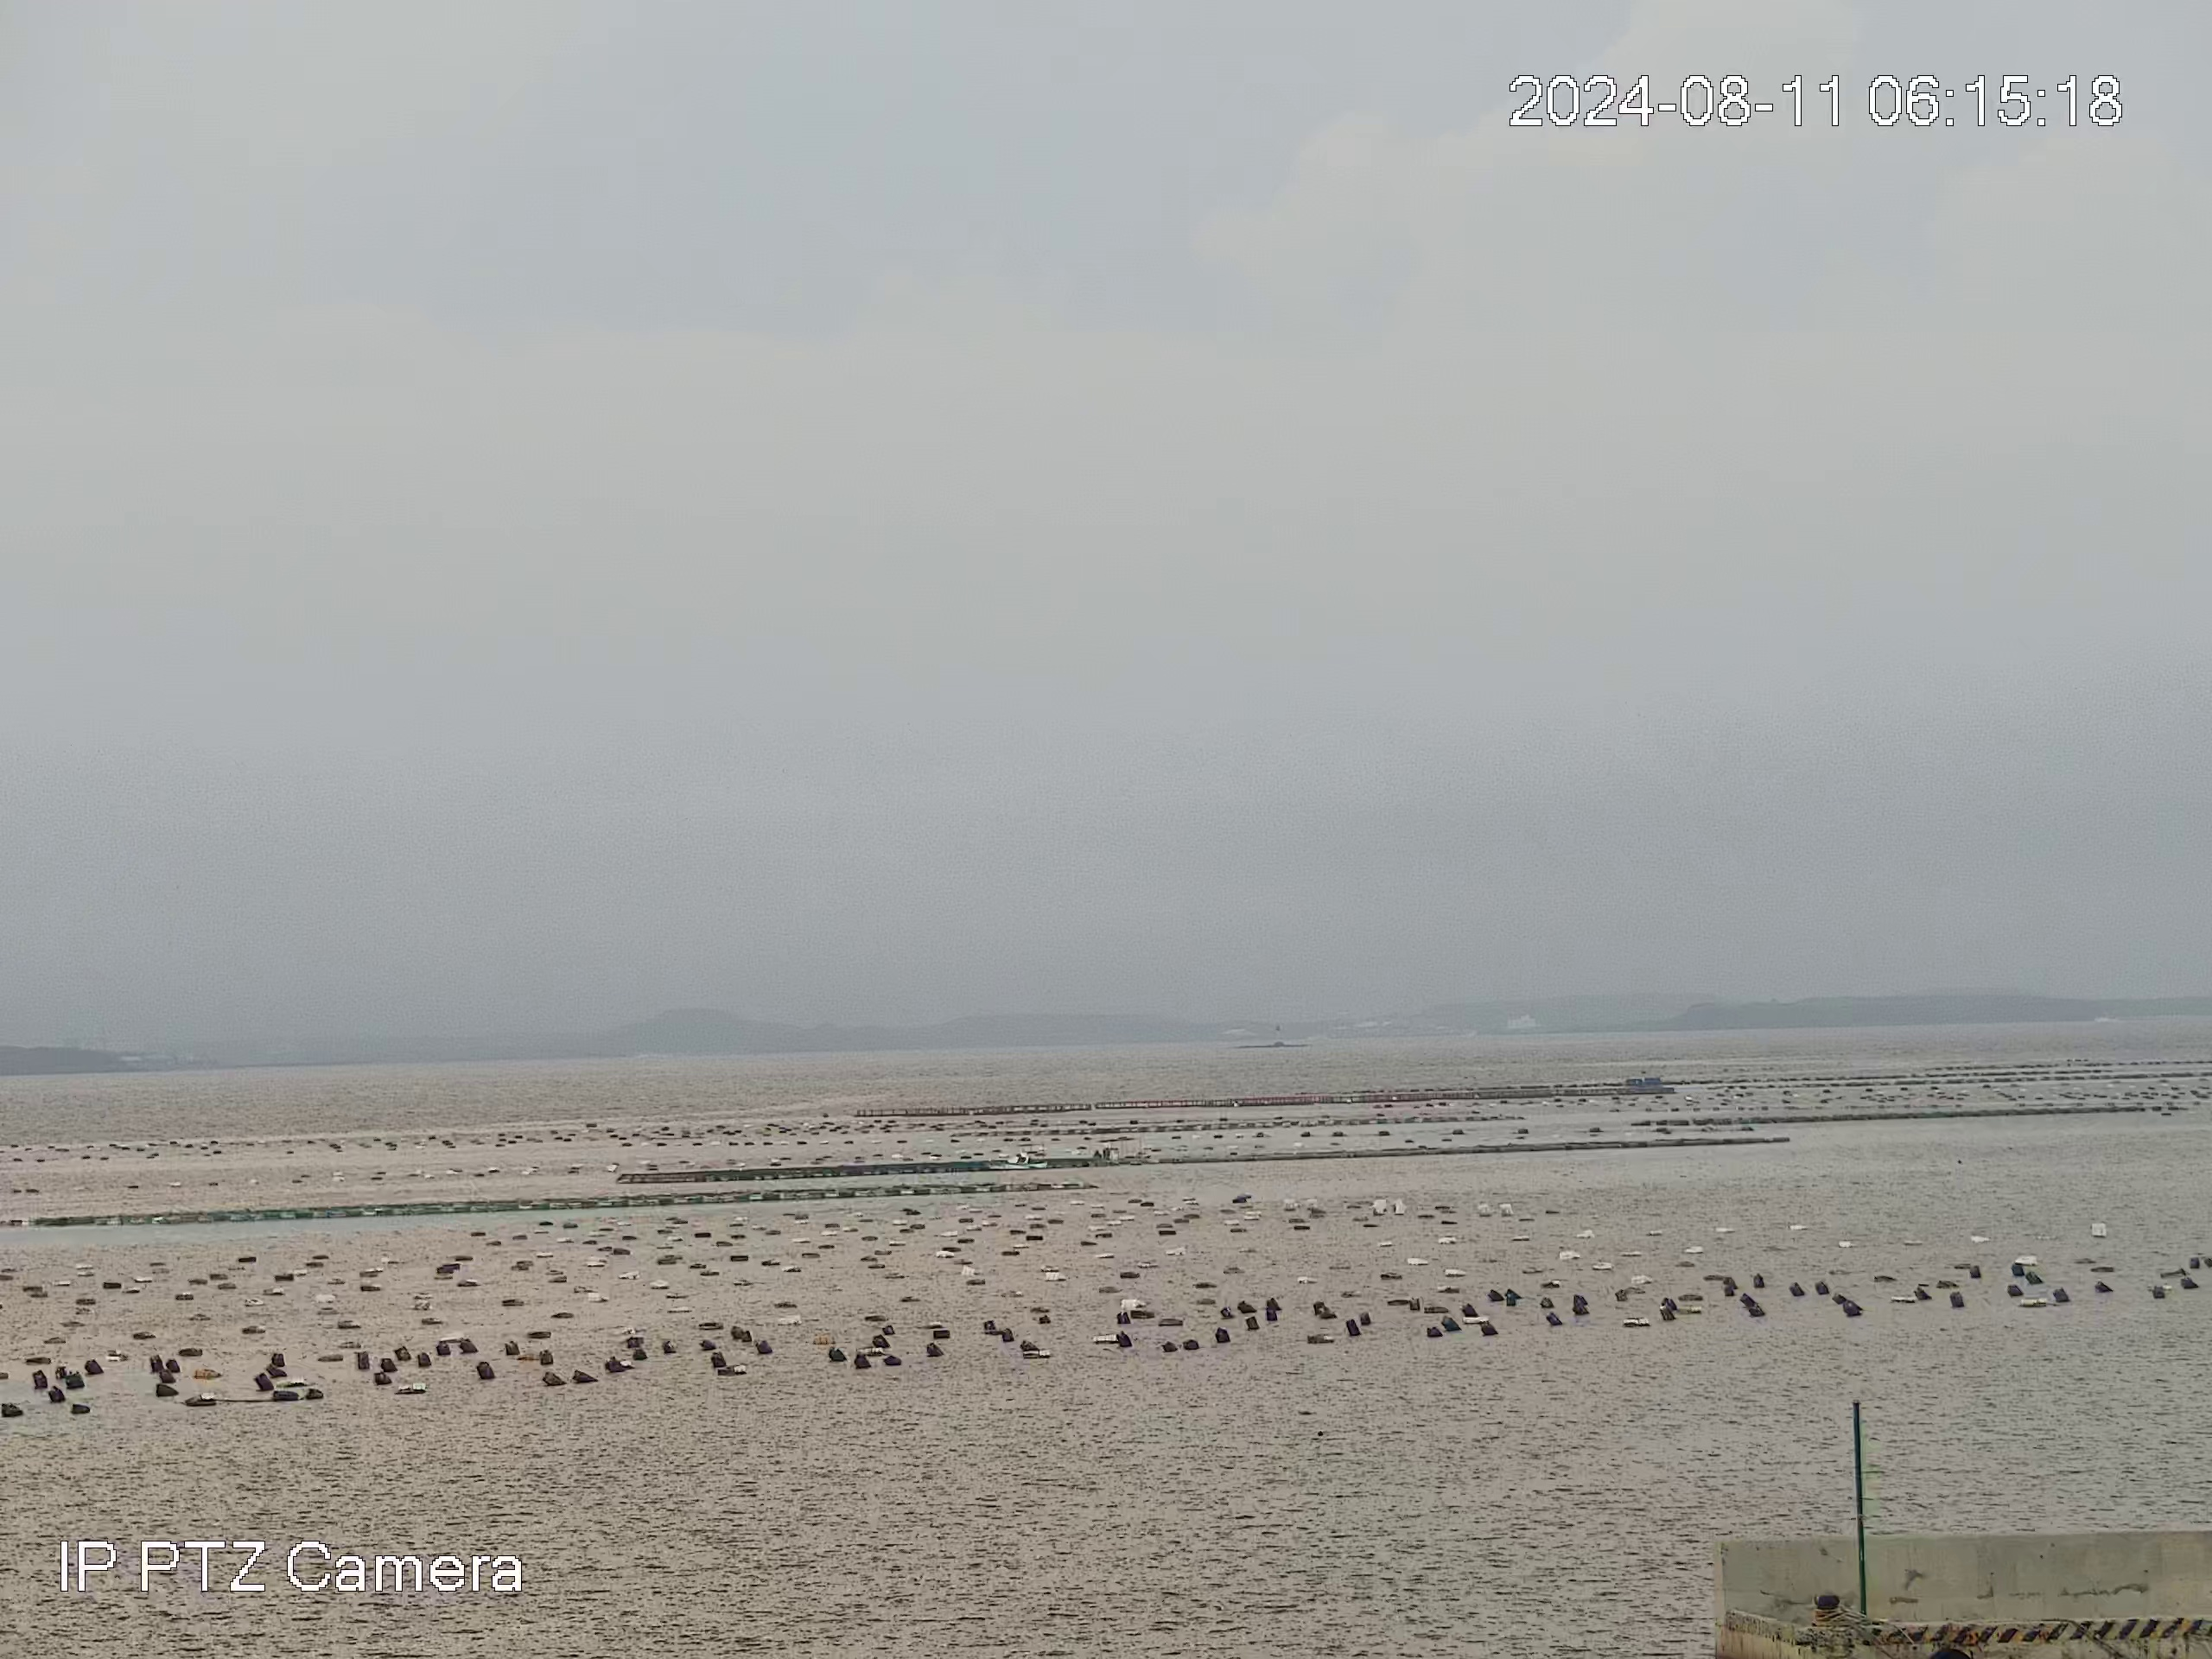boat: (982, 1148, 1050, 1171)
